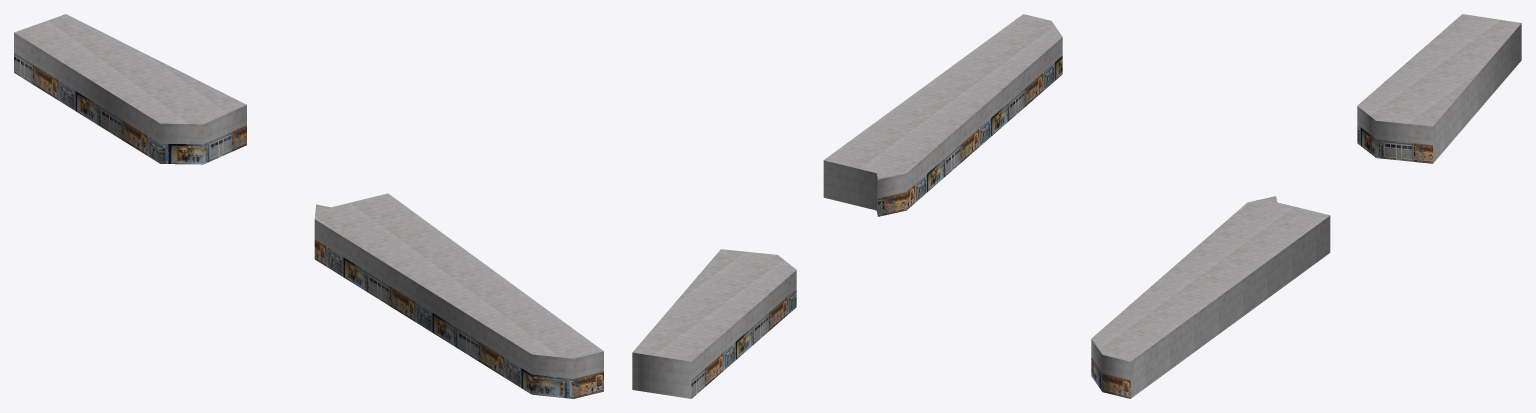
File: Mall.FBX
3 views of the same model, side by side, from view 1: azimuth 30°, elevation 25°; view 2: azimuth 150°, elevation 25°; view 3: azimuth 330°, elevation 25° (orthographic). The views are drawn at different scales.
Parts seen in each view (by area): view 1: Plane013; view 2: Plane013; view 3: Plane013.
Boxes of the visible parts, bbox=[...] form: Plane013: bbox=[14, 14, 603, 398]; Plane013: bbox=[632, 14, 1062, 398]; Plane013: bbox=[1091, 14, 1521, 398].
Size of the model in its own units: 36.11 by 12 by 259.
